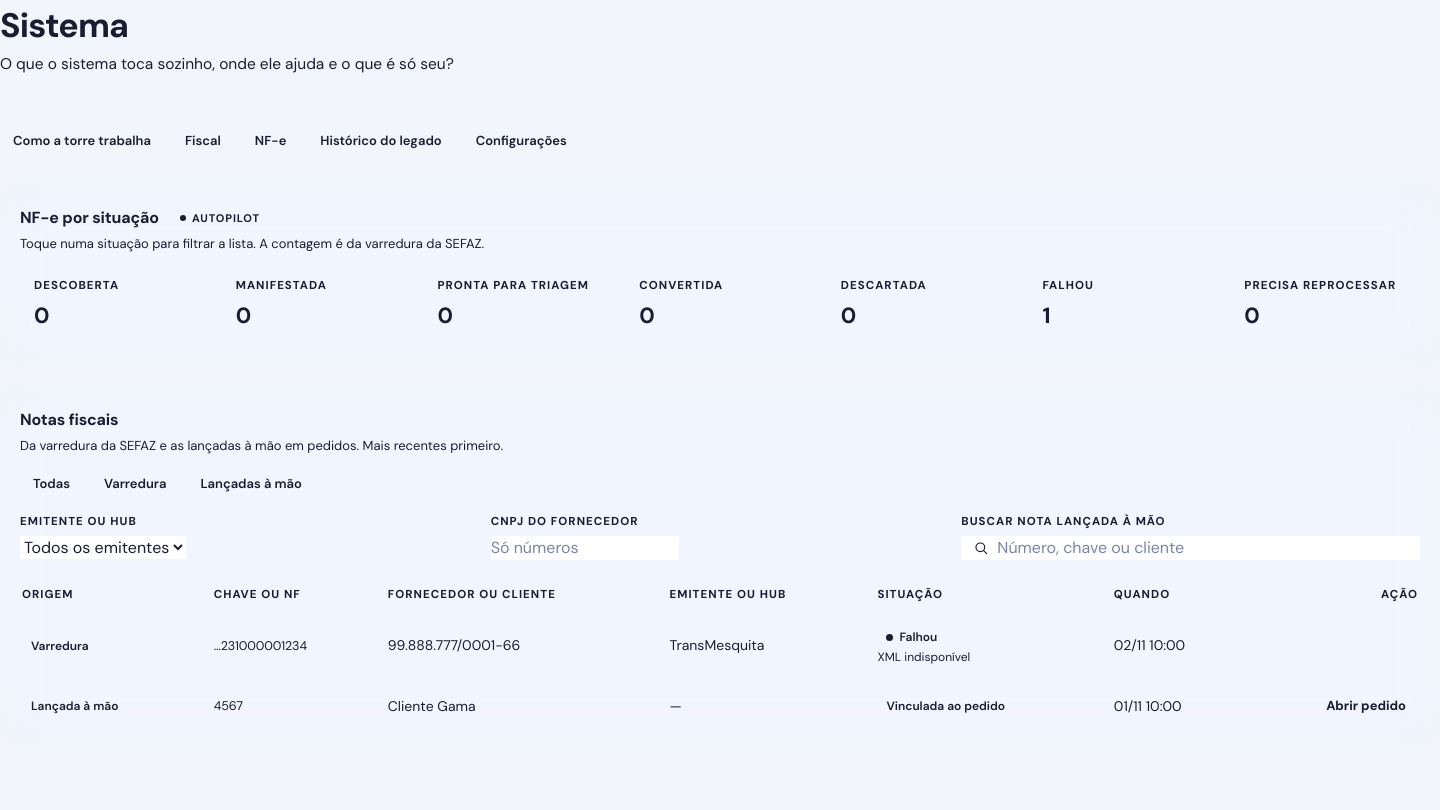
Test case: Sistema: NF-e, certificado e modelos de IA › monitor de NF-e: junta varredura e notas à mão, filtra por situação e abre o detalhe
Later steps or results of the test are not shown.
Expected: the text "4567" is shown, [200,678,374,734]
Expected: the text "XML indisponível" is shown, [878,649,970,665]
Click the button "Falhou 1" at (1123, 305), box [1029,266,1218,344]
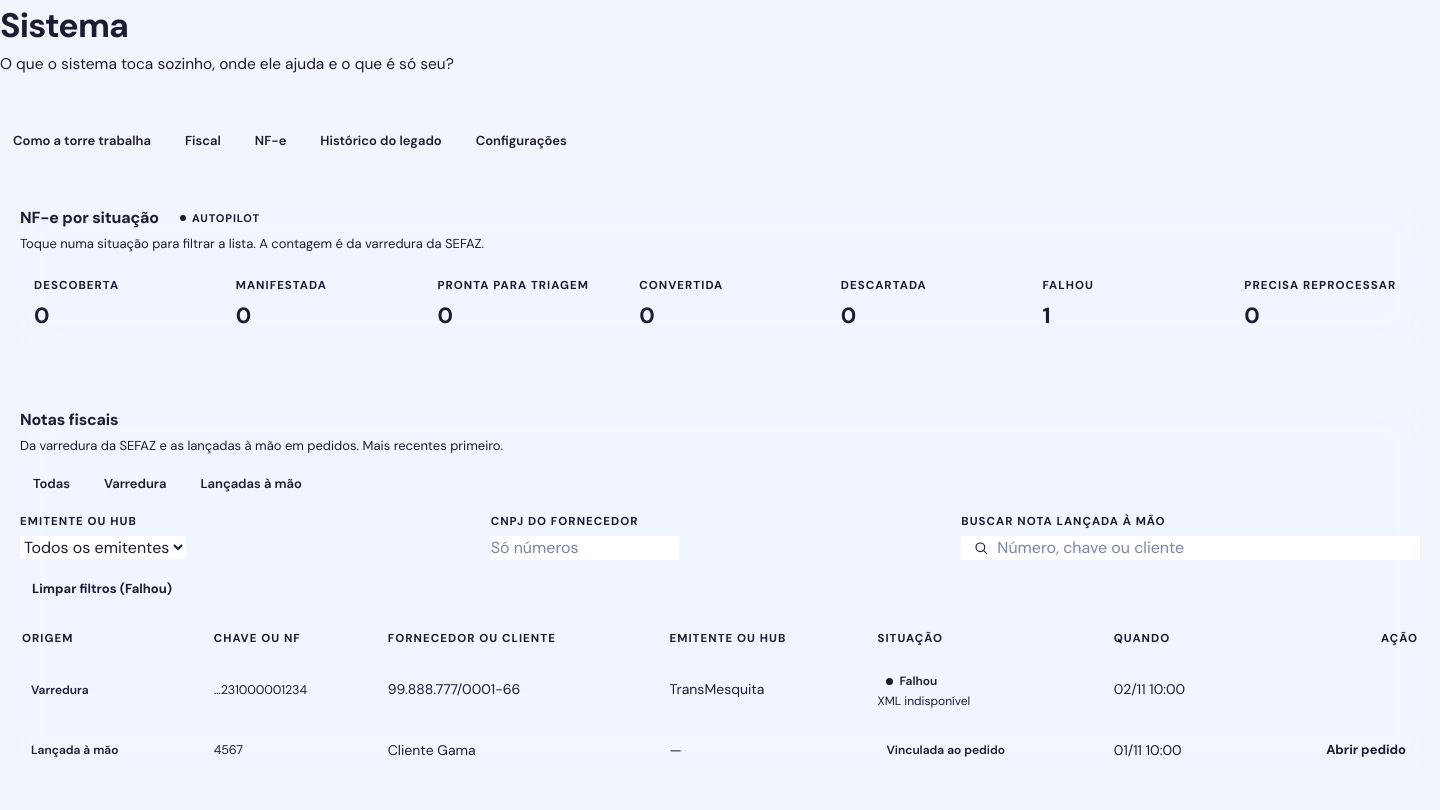
Type "99.888" into the field named "Filtrar por CNPJ do fornecedor" at (585, 548), box [491,536,679,560]
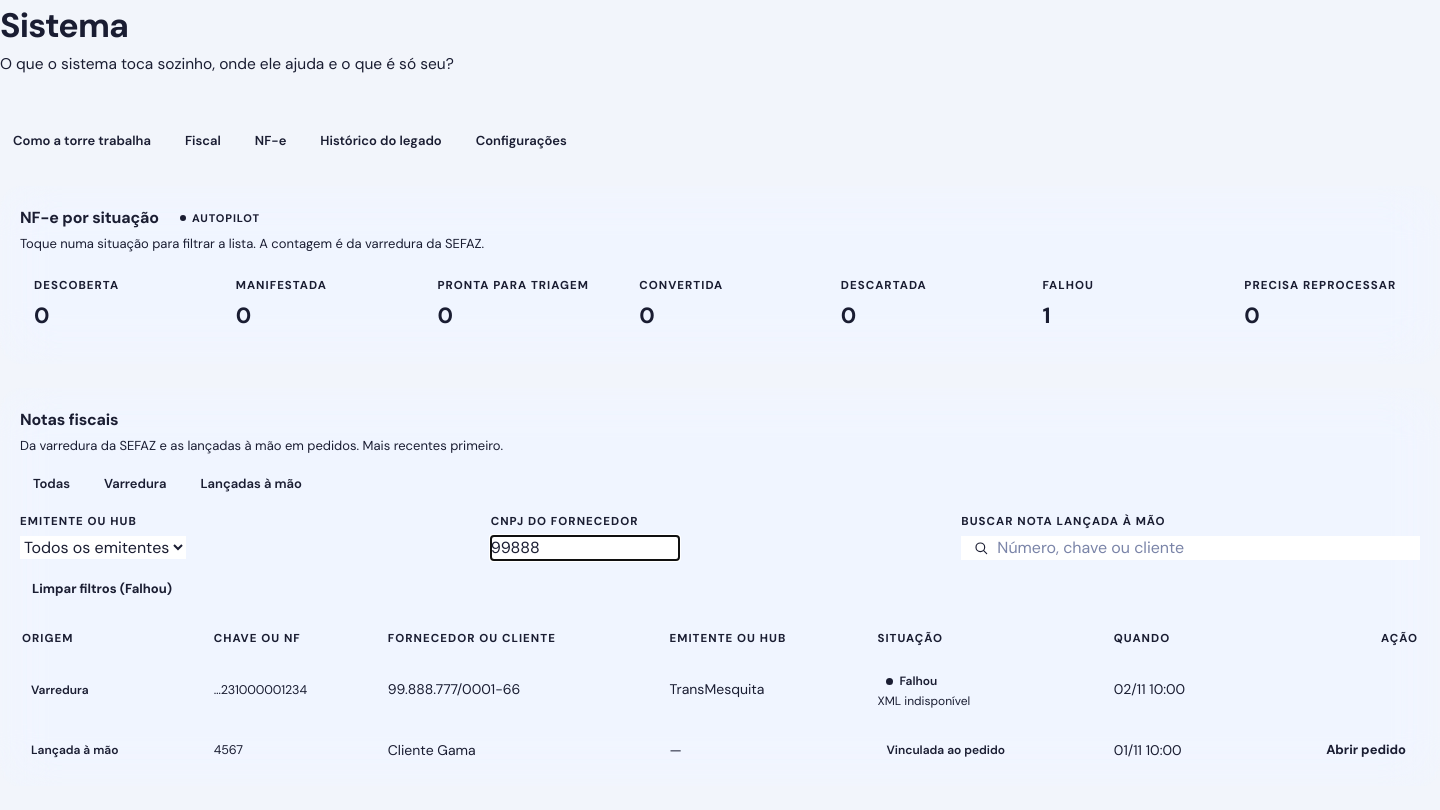
Click the button named "Ver detalhe da NF-e" at (260, 691), box [214,682,307,700]
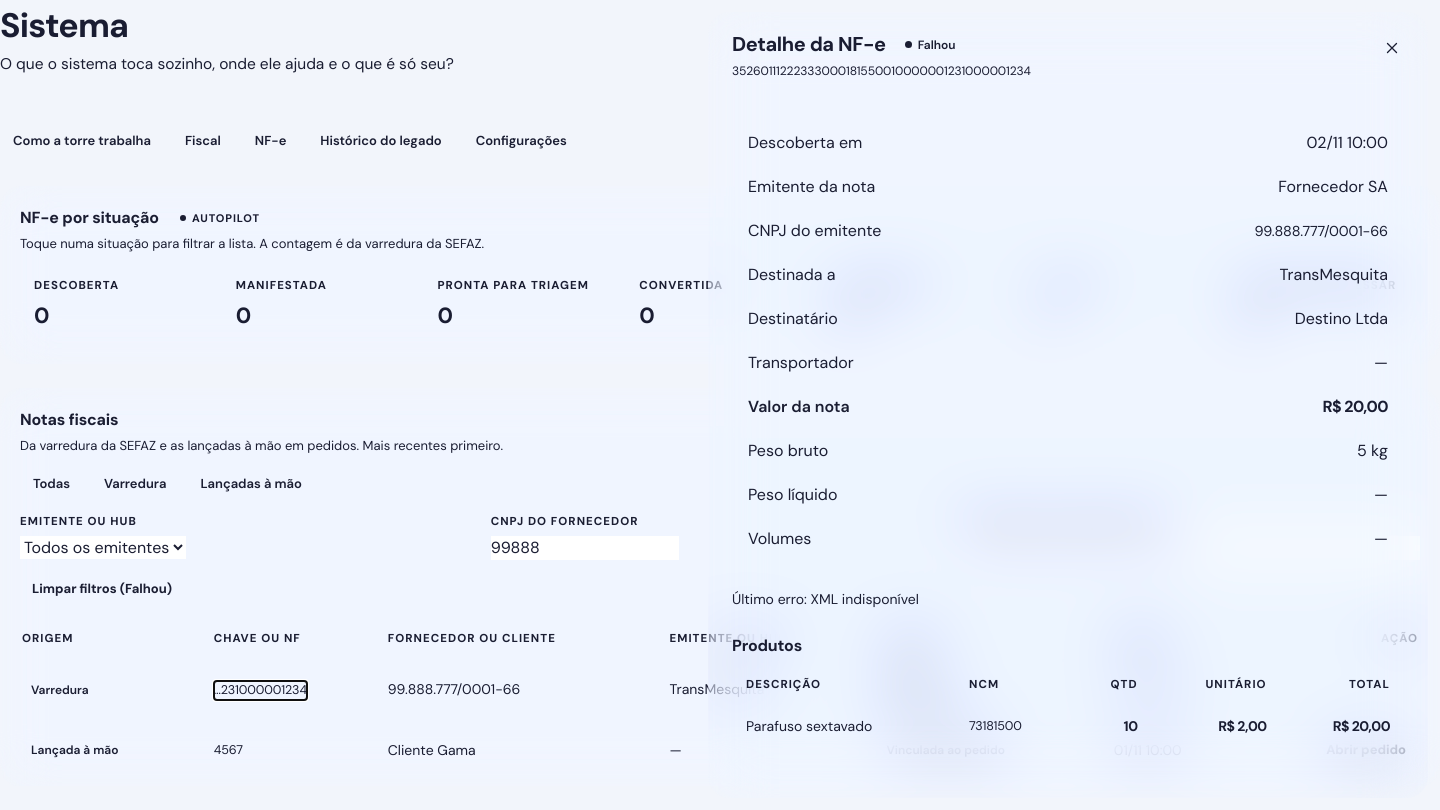
Expected: the text "Parafuso sextavado" is shown, [732,704,955,748]
Expected: the text "Fornecedor SA" is shown, [1278,175,1388,199]
